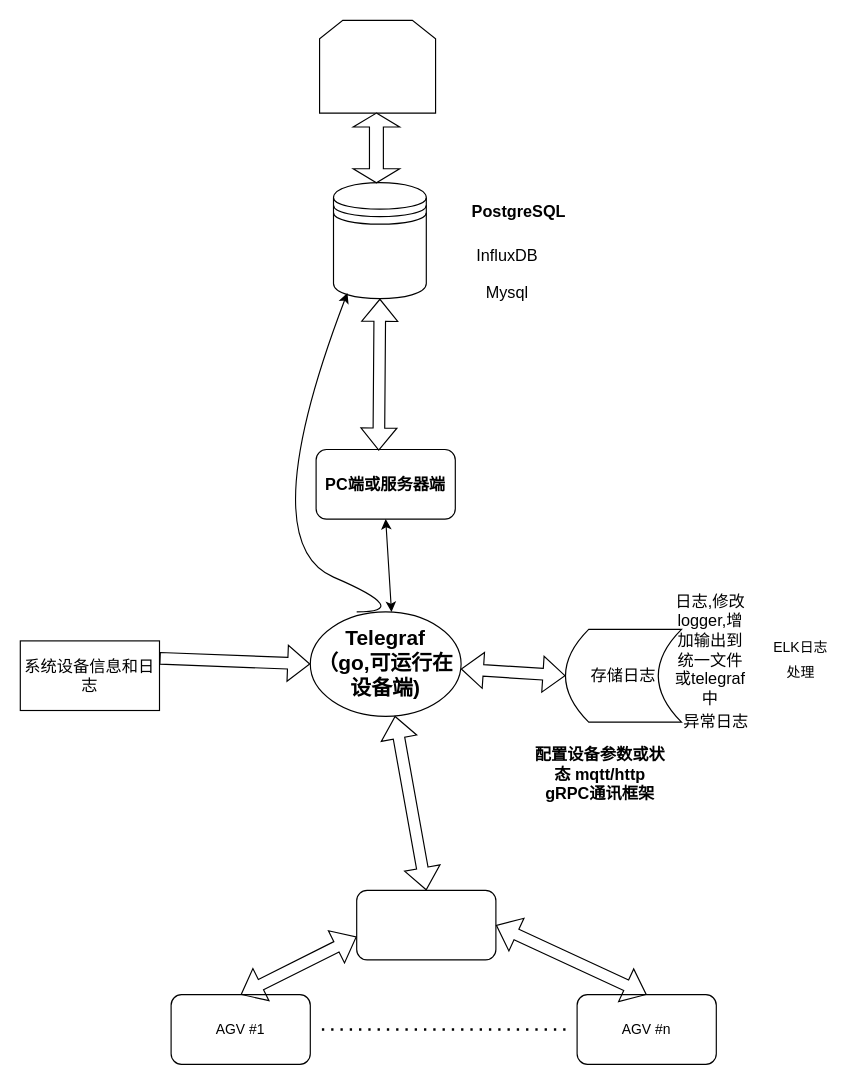
The diagram is 856 pixels wide and 1085 high, and some of its shapes have lost their labels. The box of each missing label's shape, as (x1, y1, x2, y2) in pixels:
MQTT broker代理服务器: (356, 889, 496, 960)
数据库: (332, 182, 426, 299)
网页端（Grafana): (318, 19, 436, 113)
